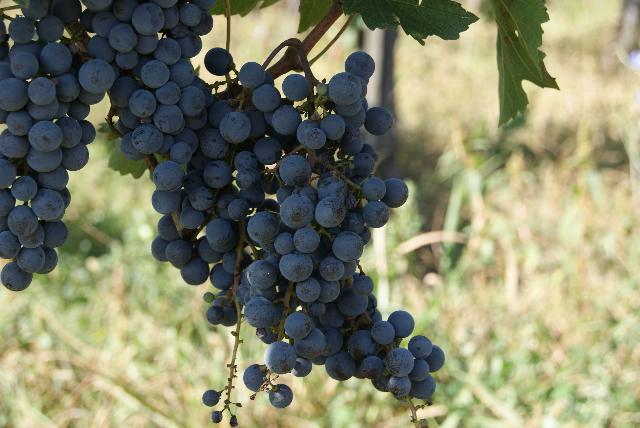grapes: (166, 84, 444, 408), (0, 0, 115, 291), (82, 0, 205, 156)
